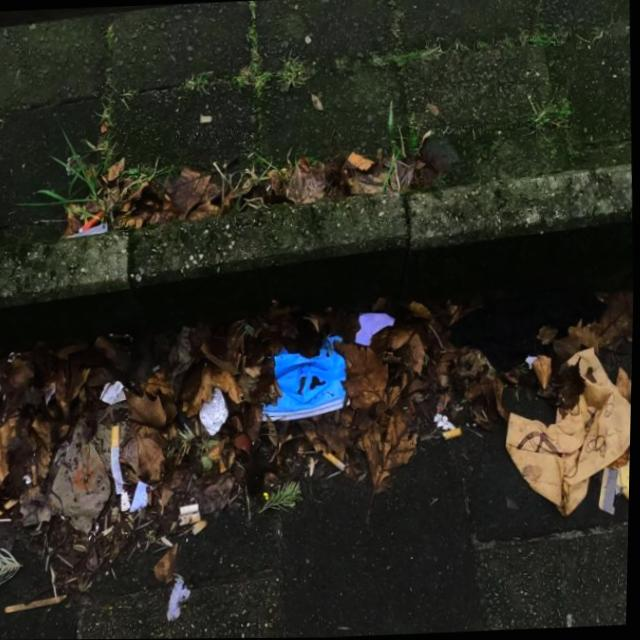Mask: (258, 329, 354, 425)
Paper: (501, 343, 634, 521)
